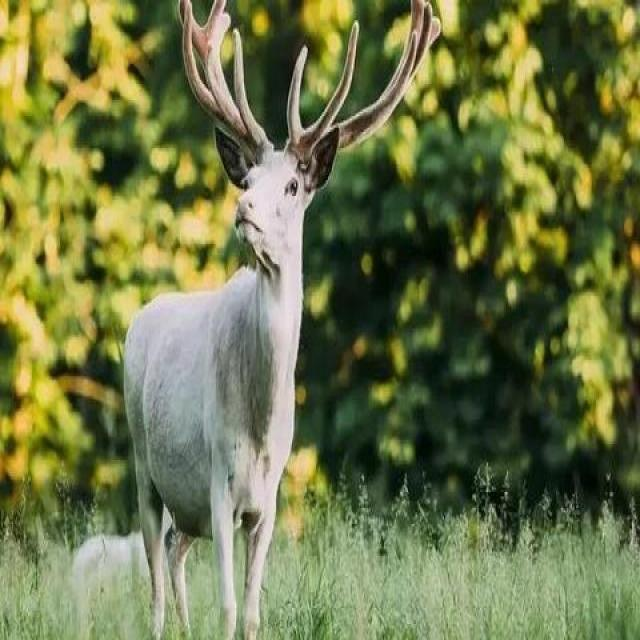deer: (118, 35, 412, 508)
